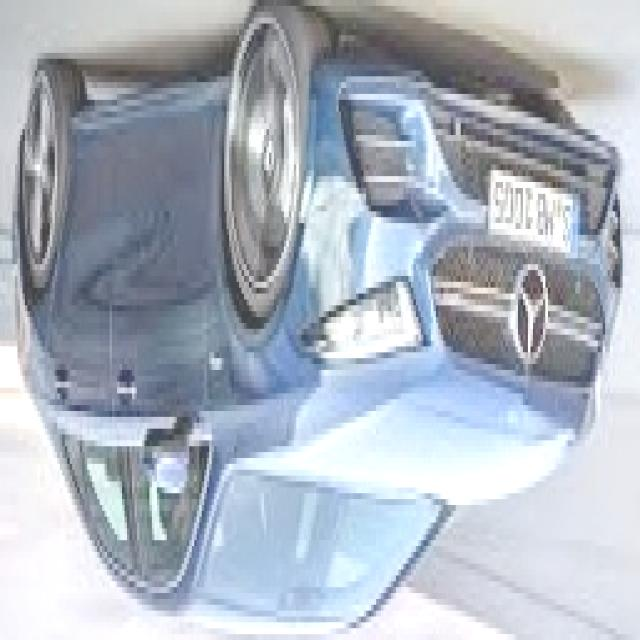blue: (20, 0, 625, 629)
